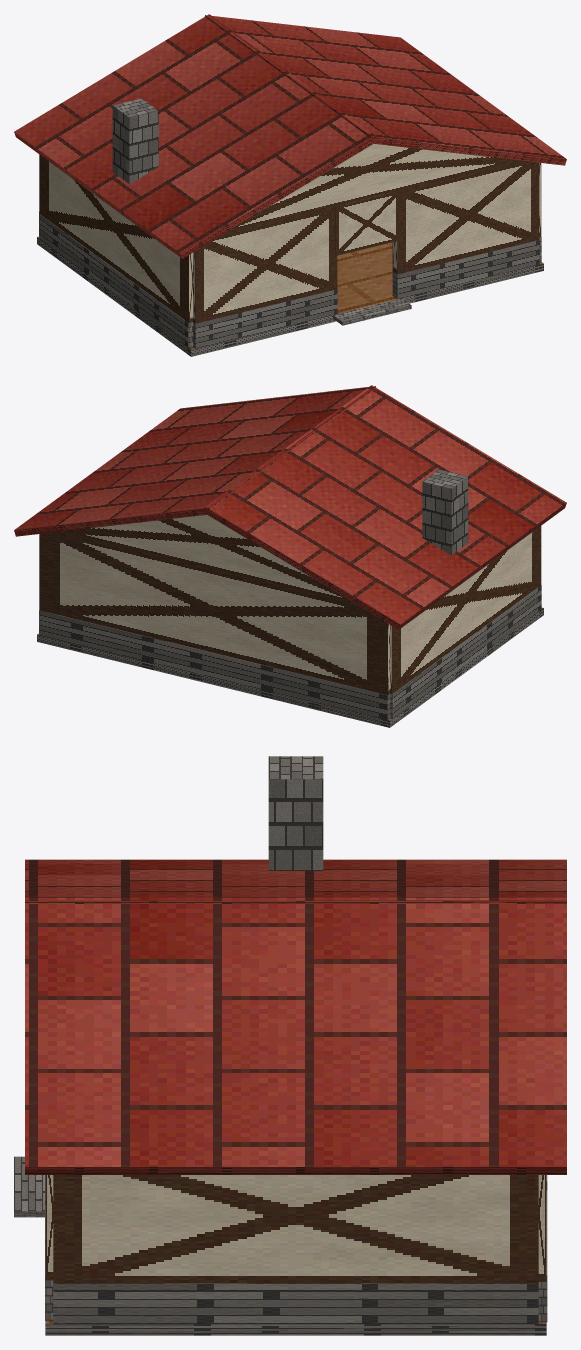
The model's file is taverna_medieval_40_jogadores.glb.
3 renders of one model, top to bottom at view 1: azimuth 30°, elevation 25°; view 2: azimuth 150°, elevation 25°; view 3: azimuth 270°, elevation 25°, orthographic. The views are drawn at different scales.
Parts seen in each view (by area): view 1: Roof_Structure, Walls_Stone_Timber, Floor_Ground; view 2: Roof_Structure, Walls_Stone_Timber, Floor_Ground; view 3: Roof_Structure, Walls_Stone_Timber, Floor_Ground.
Boxes of the visible parts, x1,y1,x2,y2 form: Roof_Structure: (14,14,566,258); Walls_Stone_Timber: (39,154,541,348); Floor_Ground: (37,236,543,356); Roof_Structure: (14,385,566,629); Walls_Stone_Timber: (39,526,541,720); Floor_Ground: (37,607,543,727); Roof_Structure: (25,756,566,1174); Walls_Stone_Timber: (45,1175,547,1324); Floor_Ground: (14,1156,546,1335).
Size of the model in its own units: 17.97 by 8.32 by 13.67.
Materials: 1 (1 with a texture image).
